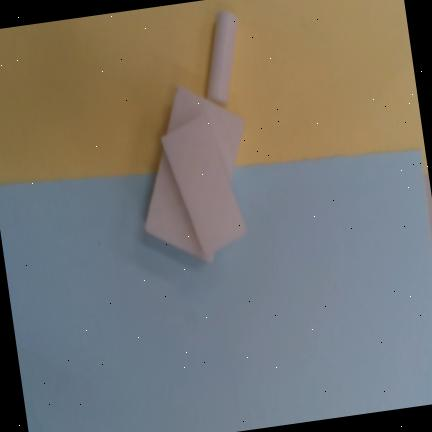Cilindro: (207, 11, 238, 103)
Paralelepipedo: (145, 85, 244, 263), (159, 112, 248, 259)
